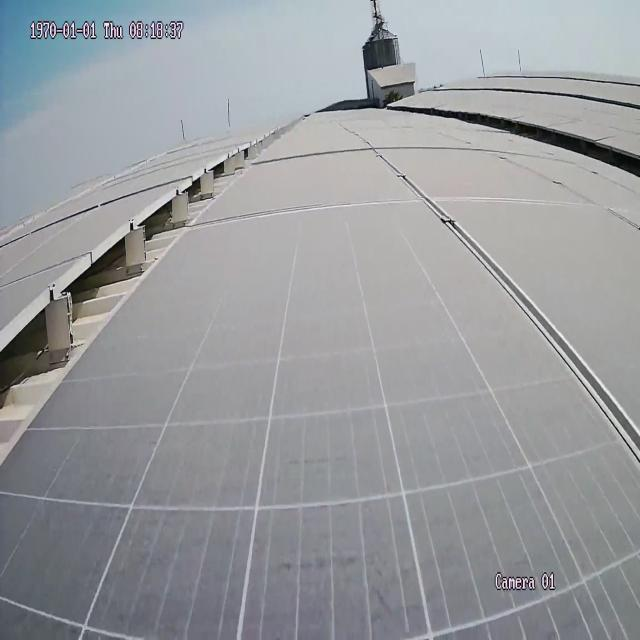interior panel: (370, 149, 640, 454)
outher panel: (5, 141, 275, 453), (448, 114, 640, 178)
